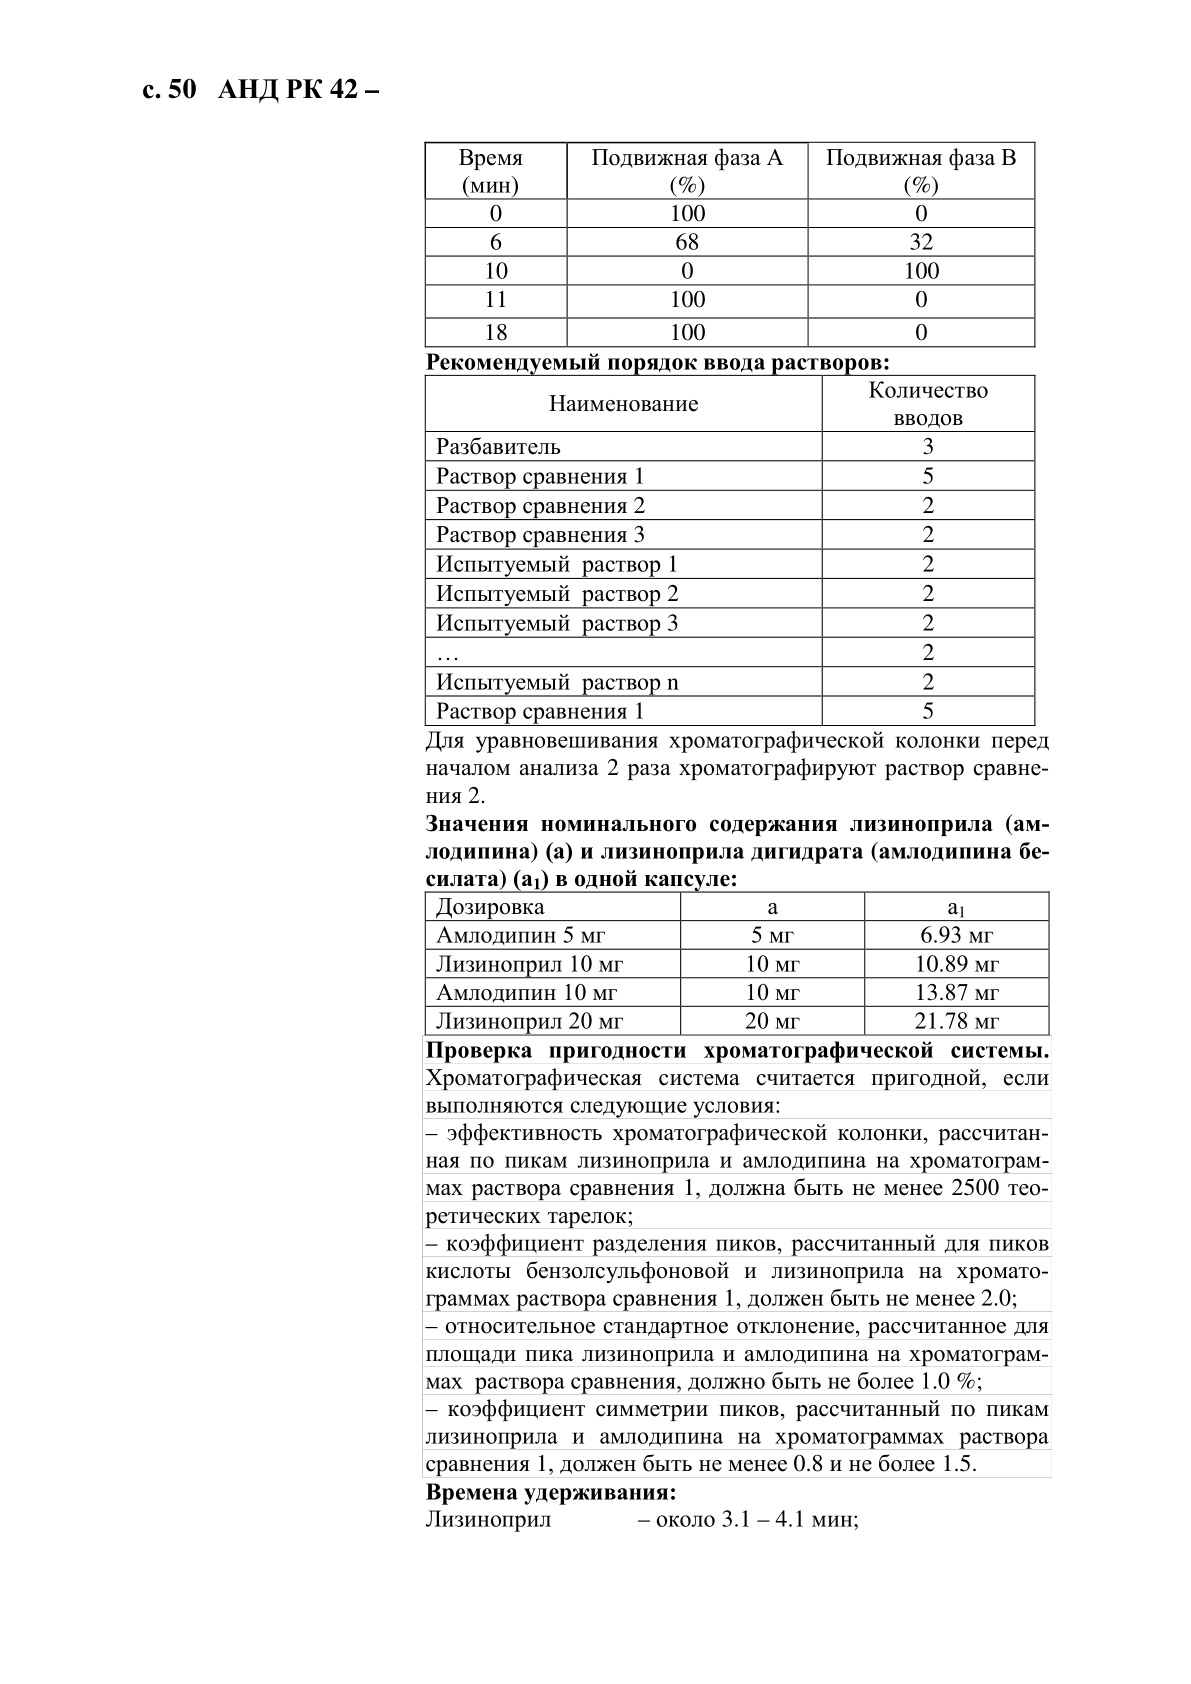full_lined: (423, 372, 1036, 725), (423, 140, 1036, 348), (423, 892, 1051, 1037)
